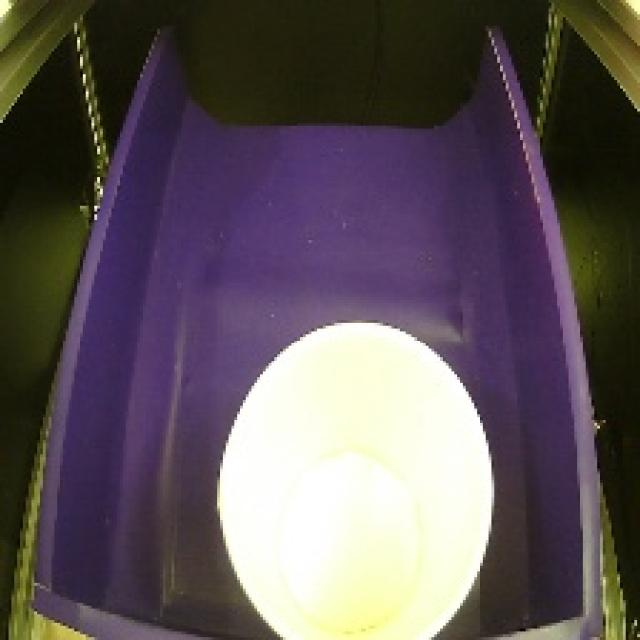cups: (207, 312, 500, 640)
